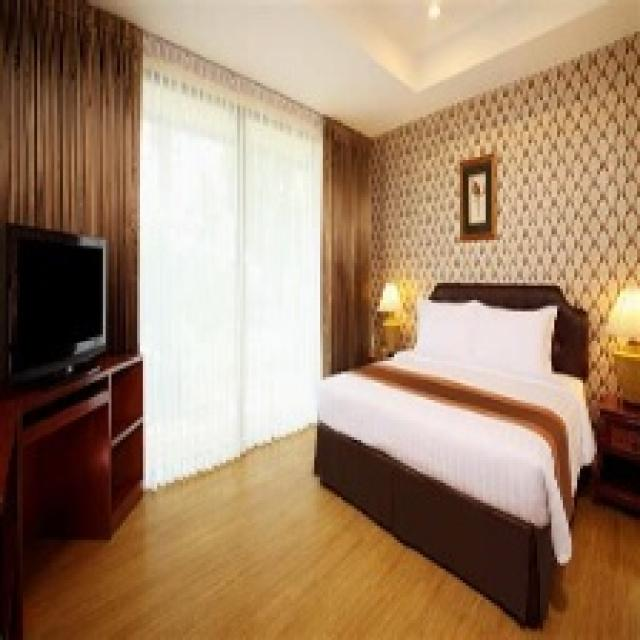Bed: (312, 280, 594, 629)
